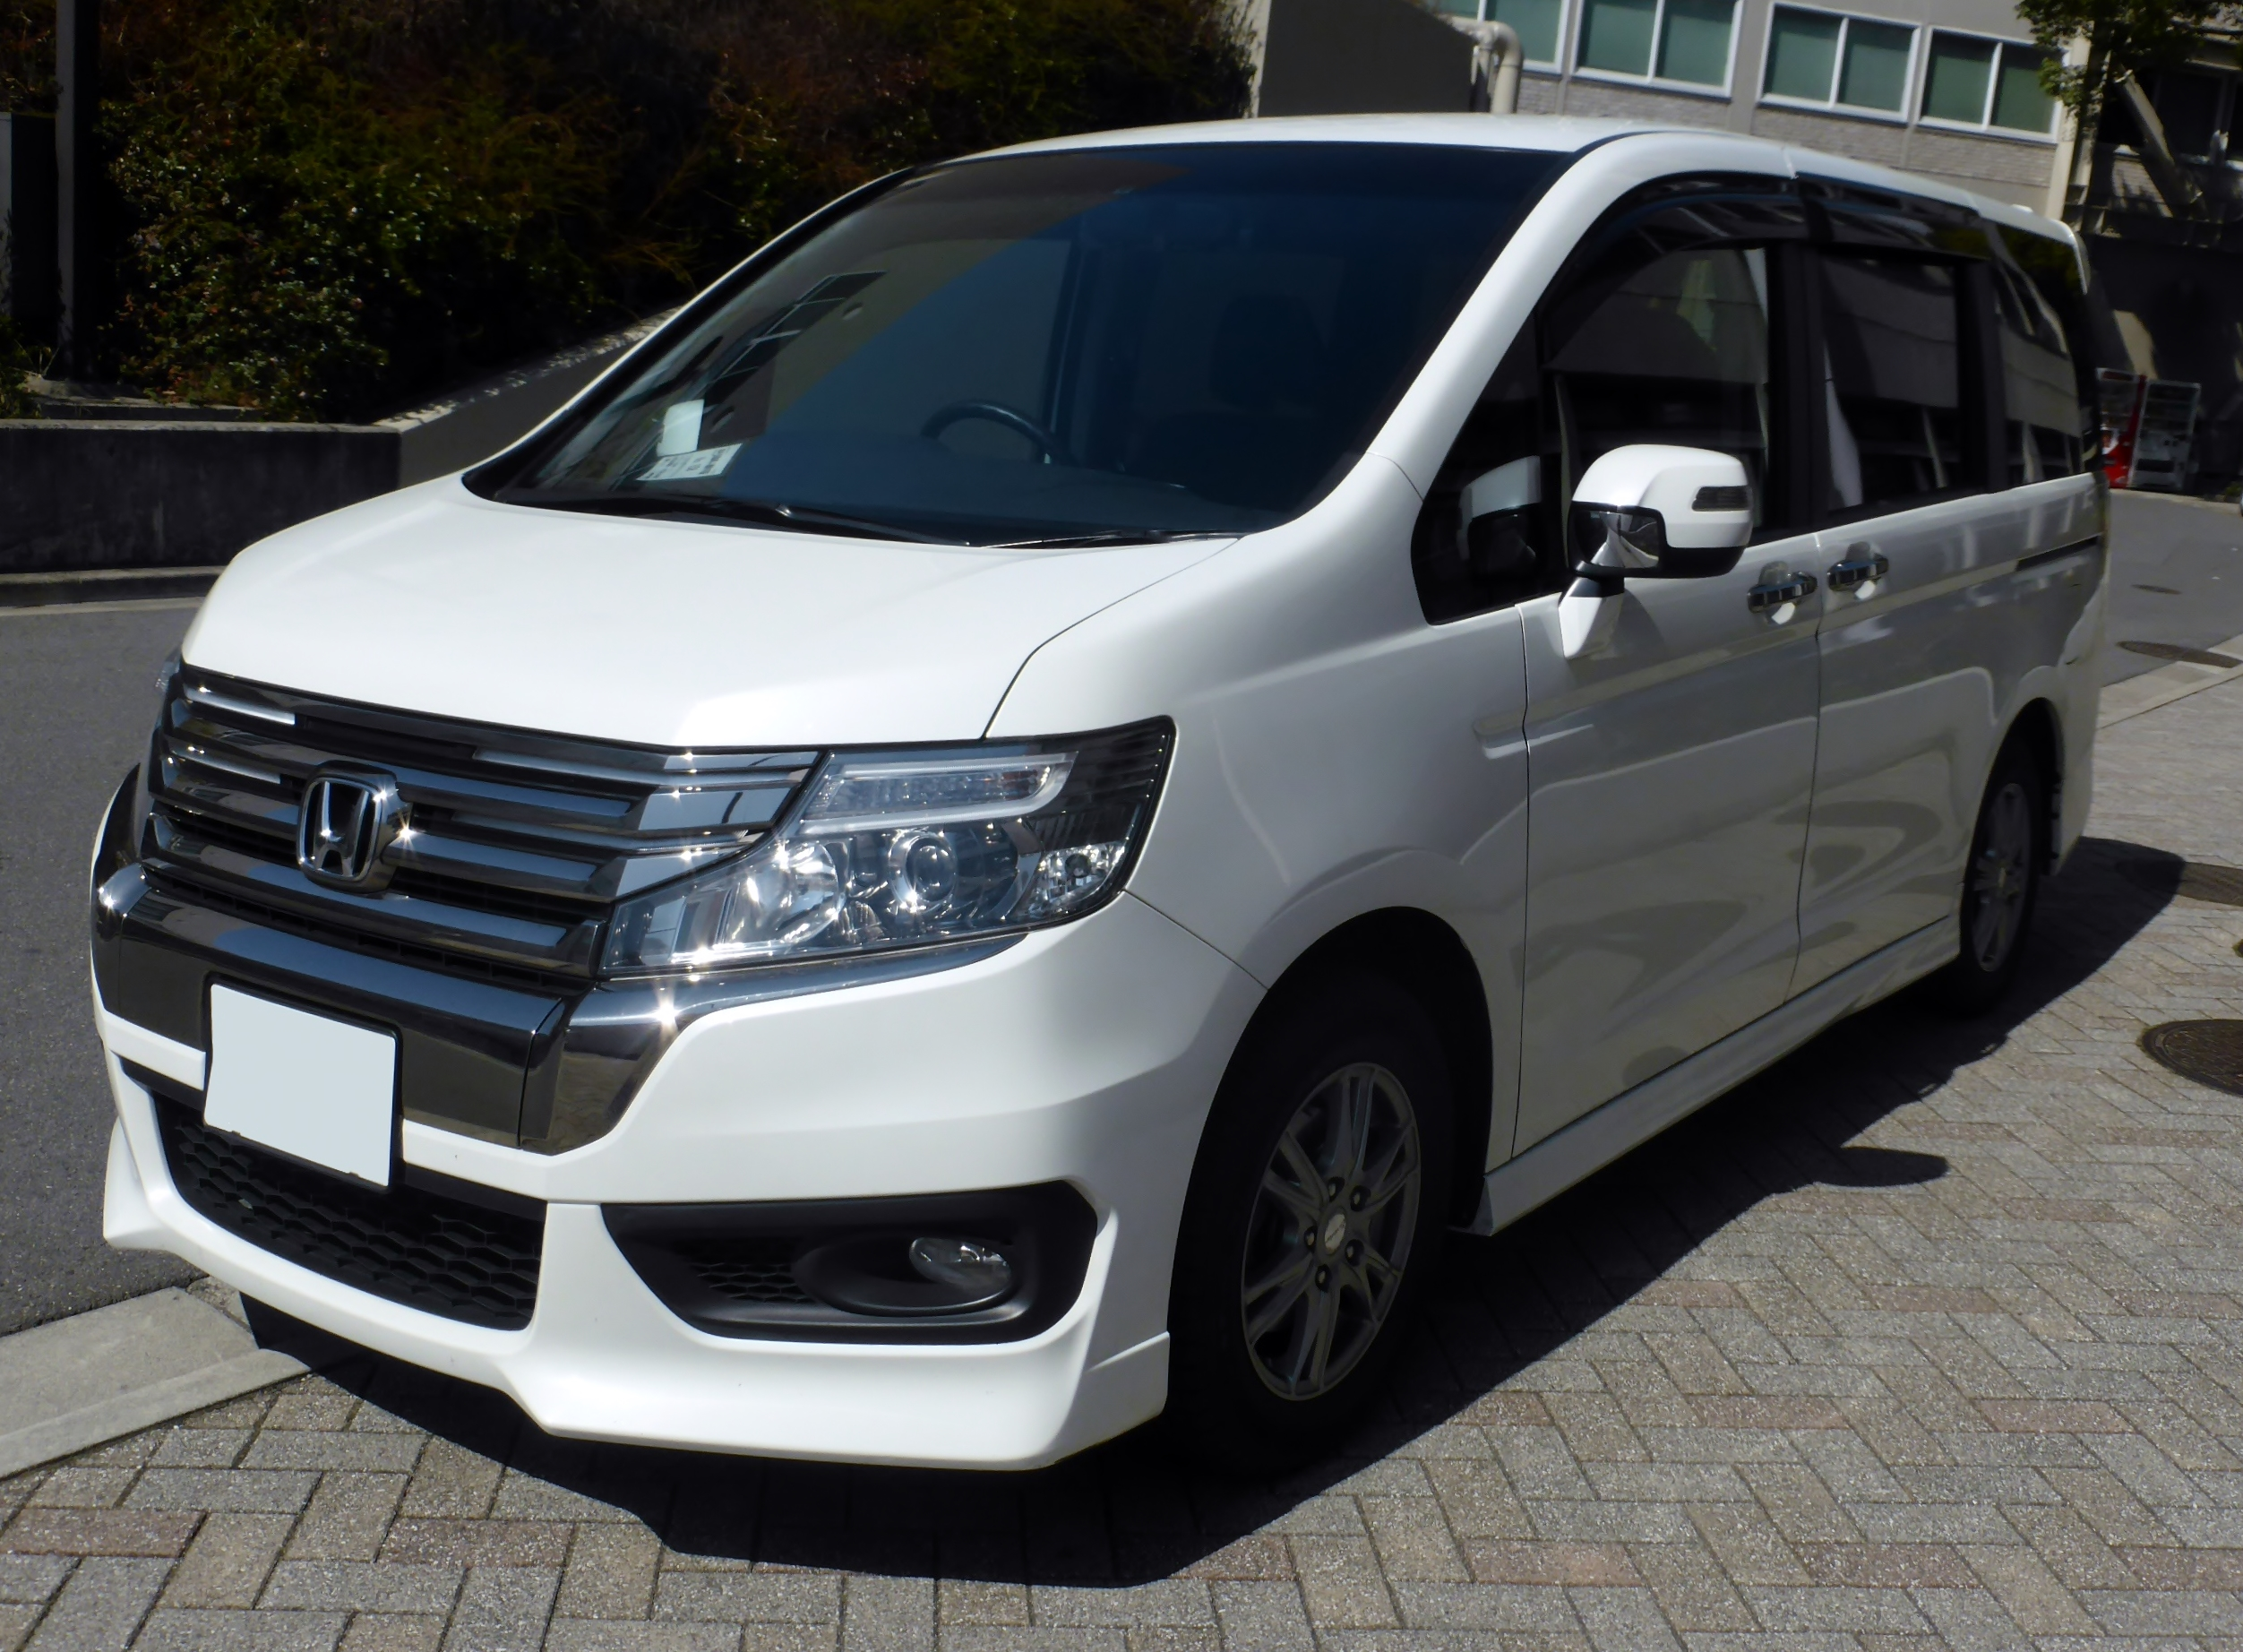van: (85, 104, 2112, 1481)
